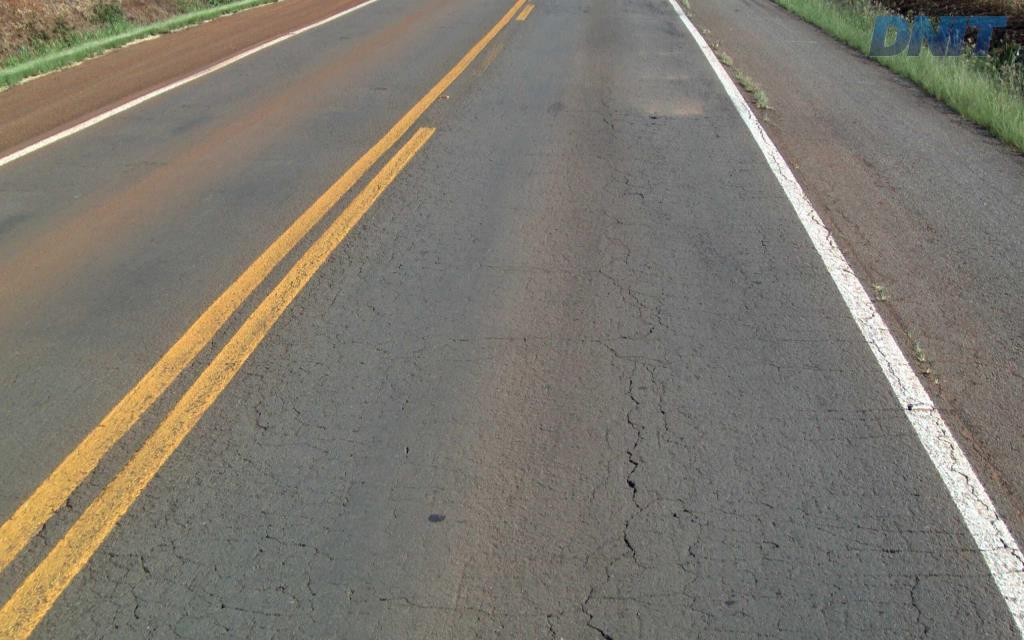crack: (900, 572, 939, 637)
